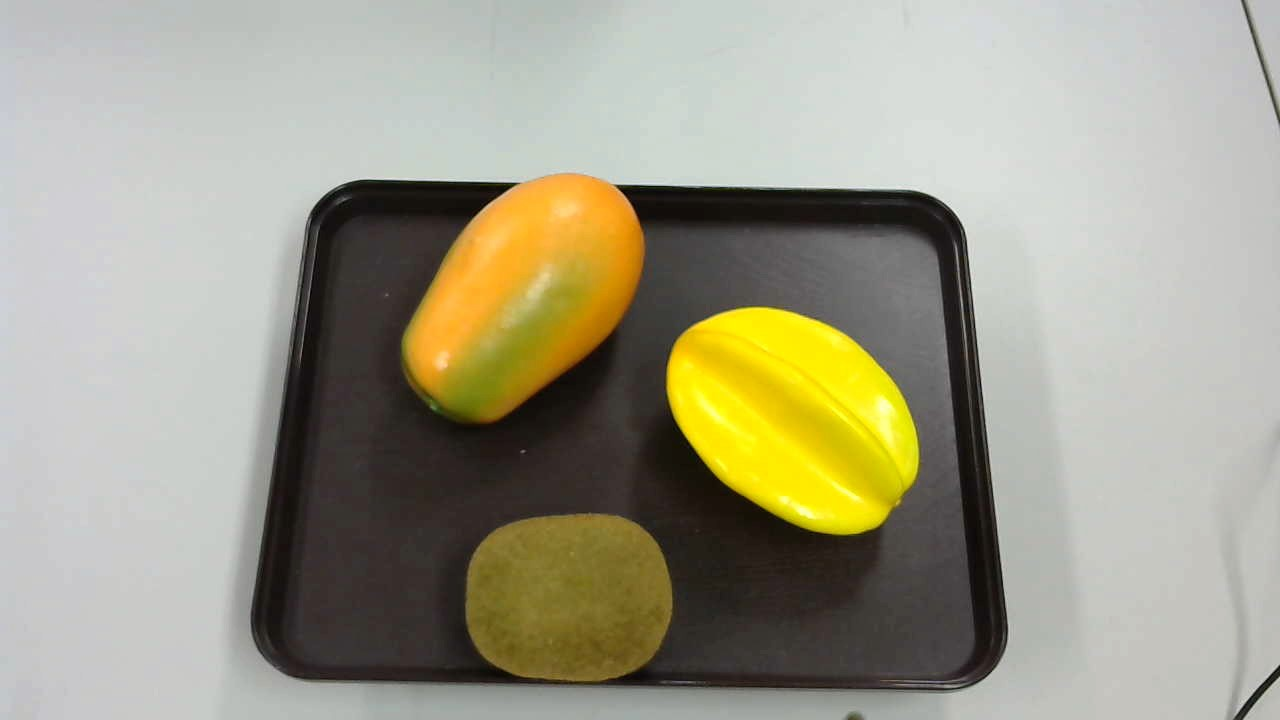kiwi fruit: (463, 506, 674, 687)
papya: (390, 171, 649, 431)
star fruit: (667, 305, 923, 540)
